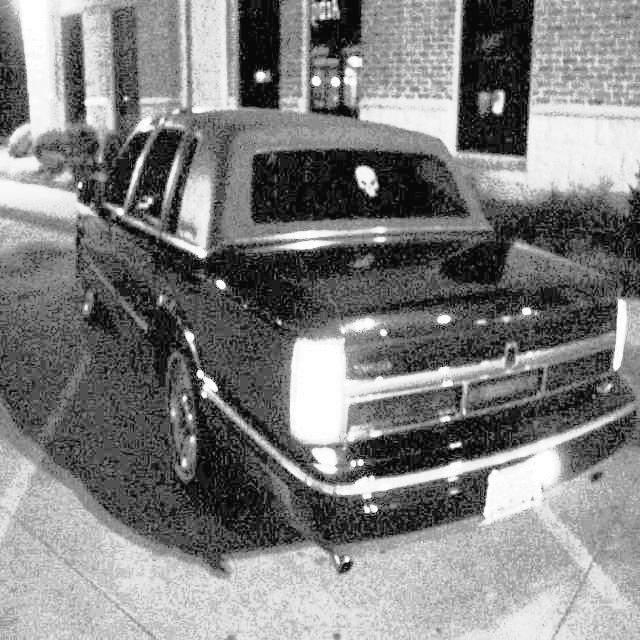Car: (75, 3, 639, 614)
